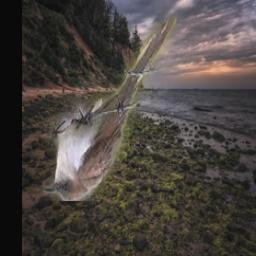Cuckoo: (44, 17, 178, 201)
